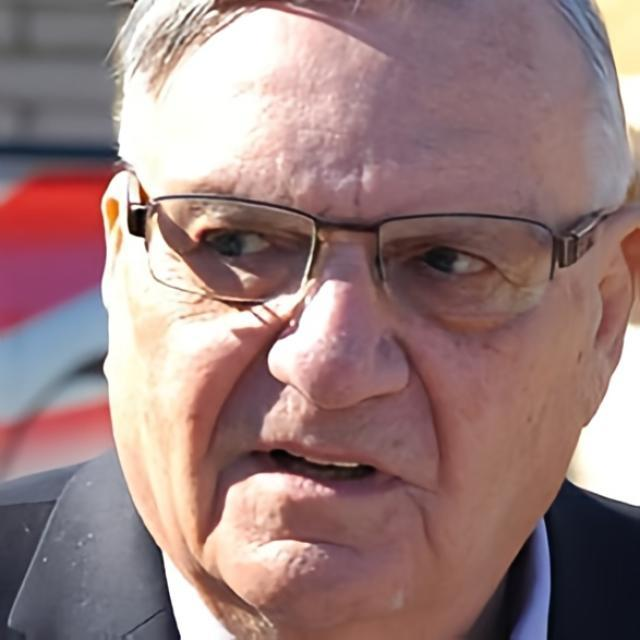disgust: (100, 0, 586, 630)
